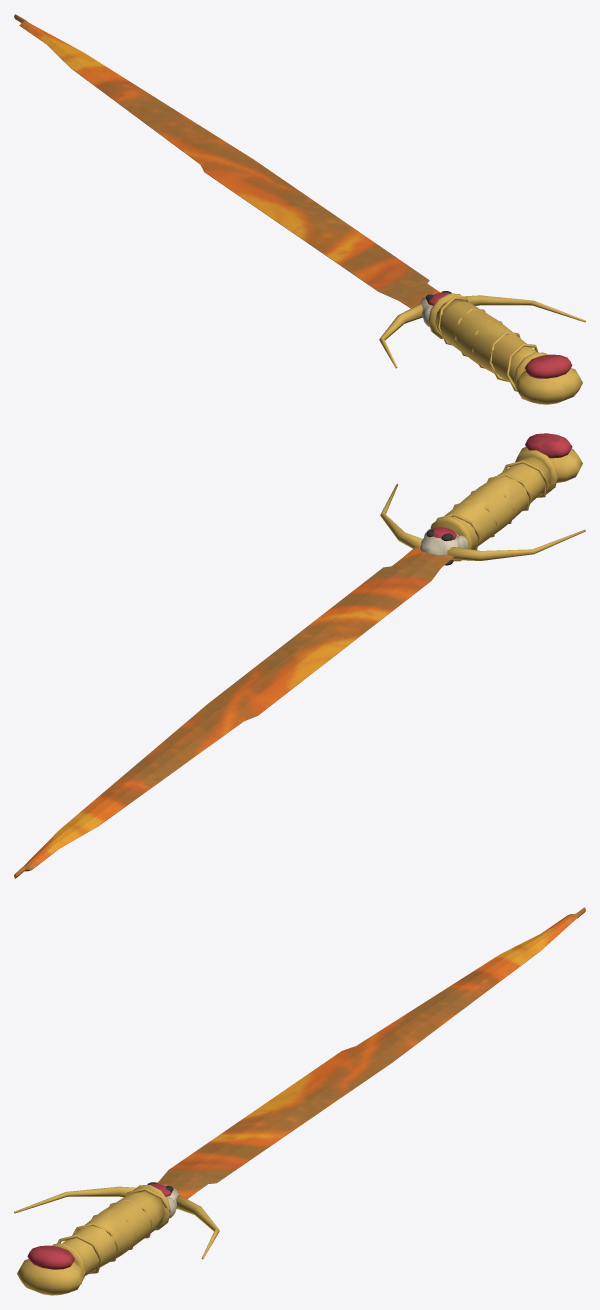
File: item_6lsword7.glb
3 views of the same model, one above another, from view 1: azimuth 30°, elevation 25°; view 2: azimuth 150°, elevation 25°; view 3: azimuth 330°, elevation 25° (orthographic).
Parts seen in each view (by area): view 1: swords_6lsword7; view 2: swords_6lsword7; view 3: swords_6lsword7.
Boxes of the visible parts, x1,y1,x2,y2 form: swords_6lsword7: (14,14,585,404); swords_6lsword7: (14,433,585,878); swords_6lsword7: (14,907,585,1295).
Size of the model in its own units: 0.2764 by 0.0735 by 1.38.
Materials: 1 (1 with a texture image).
